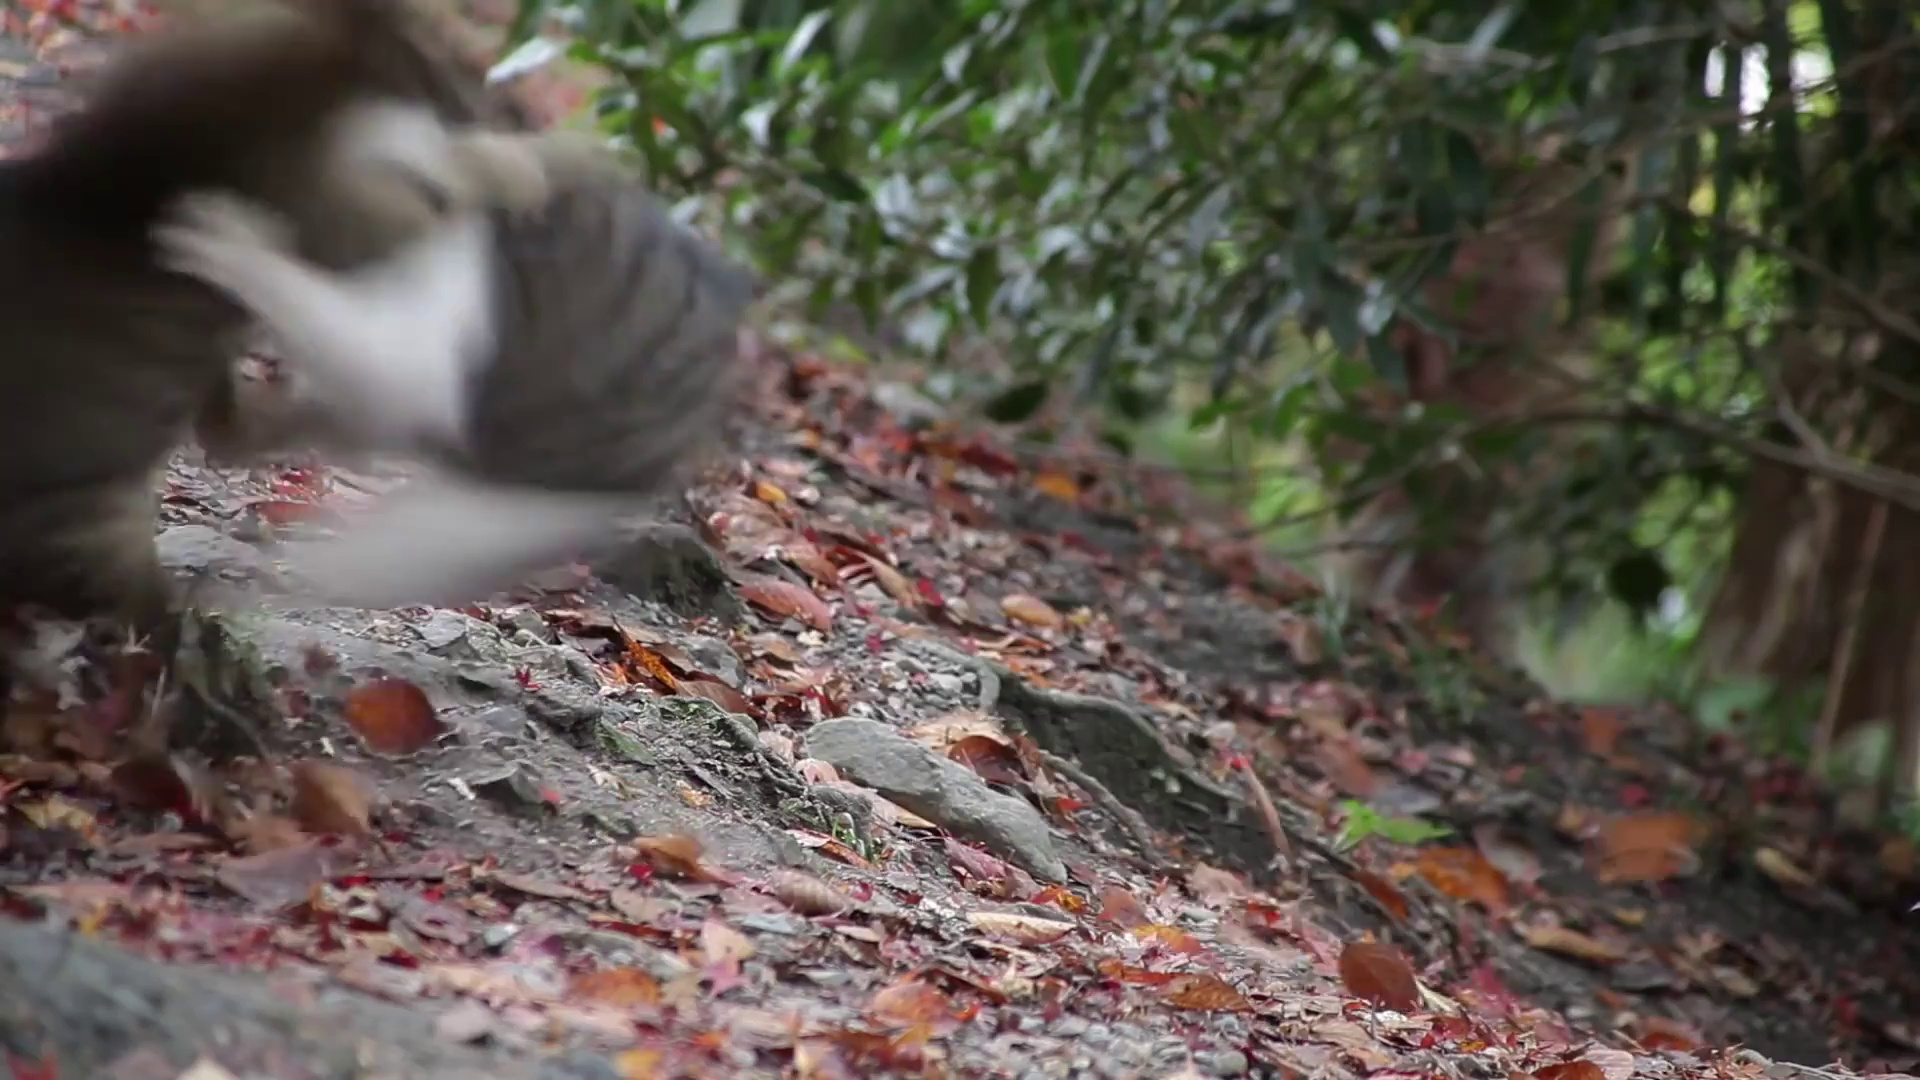black-white: (145, 95, 749, 615)
pure black: (1, 1, 472, 655)
